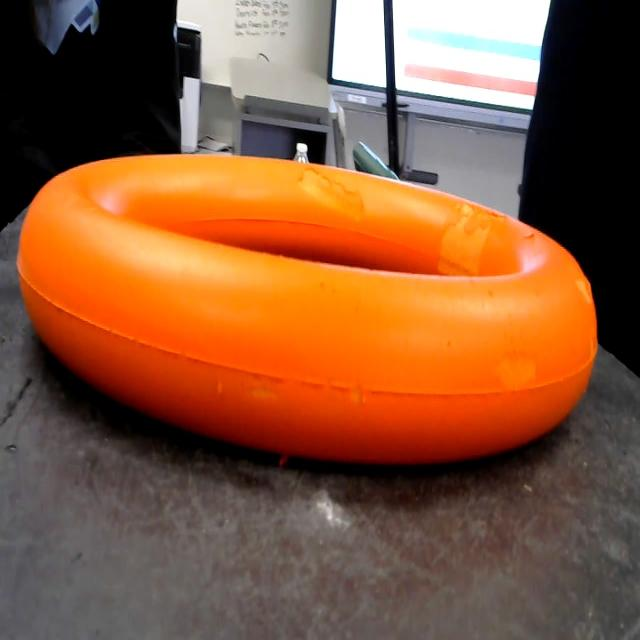note: (12, 140, 606, 482)
